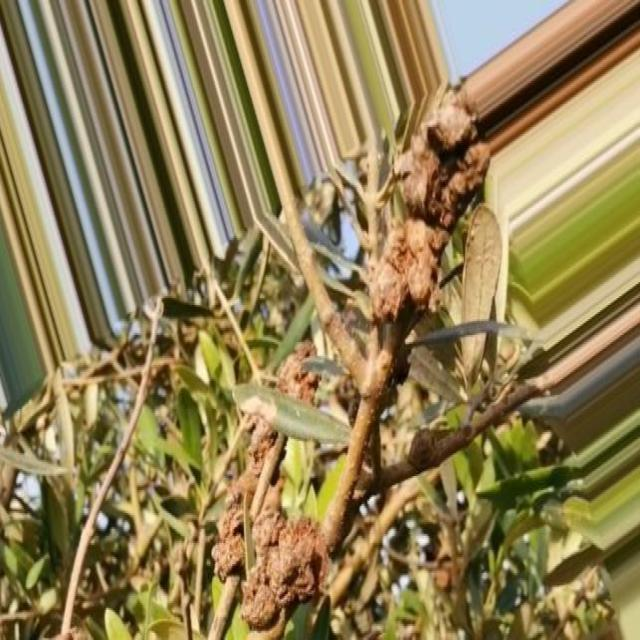Tuberculosis: (368, 98, 489, 324), (240, 508, 328, 638)
